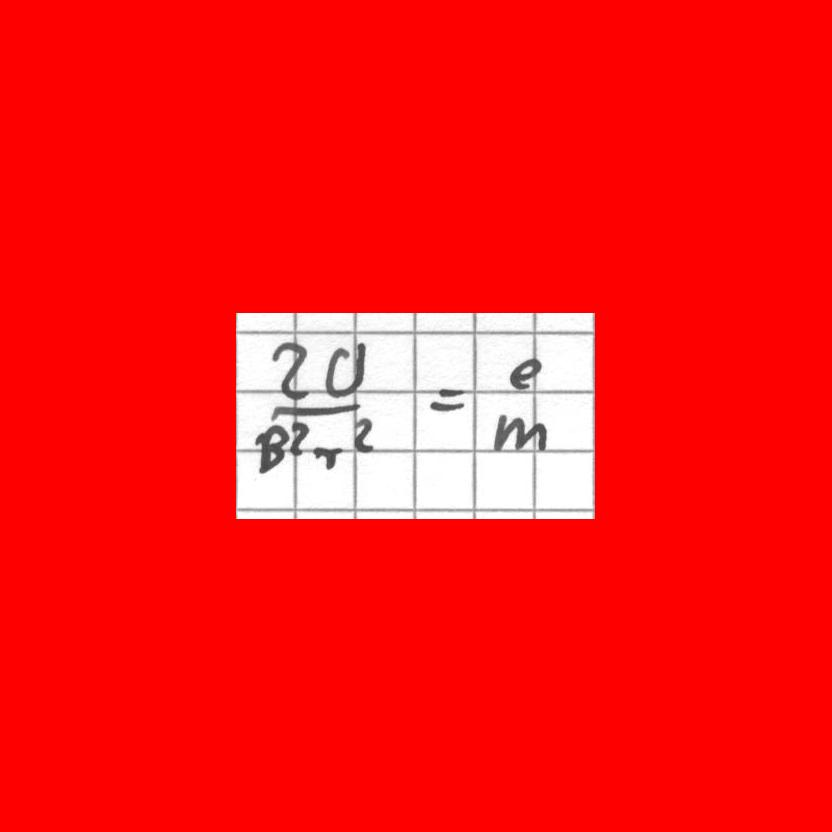Char: (323, 340, 371, 399), (488, 411, 550, 455), (269, 339, 310, 403), (250, 422, 290, 474), (501, 355, 551, 394), (258, 400, 364, 418), (428, 384, 471, 419), (348, 415, 376, 454), (310, 443, 344, 470), (286, 420, 309, 456)
